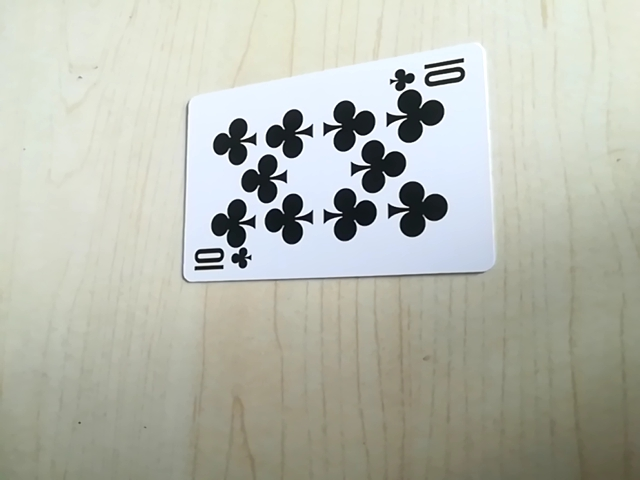mh 10: (389, 54, 473, 93), (188, 243, 253, 282)
